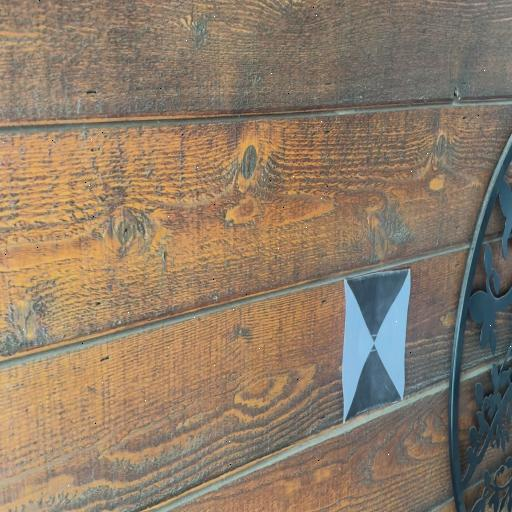target: (343, 270, 411, 420)
